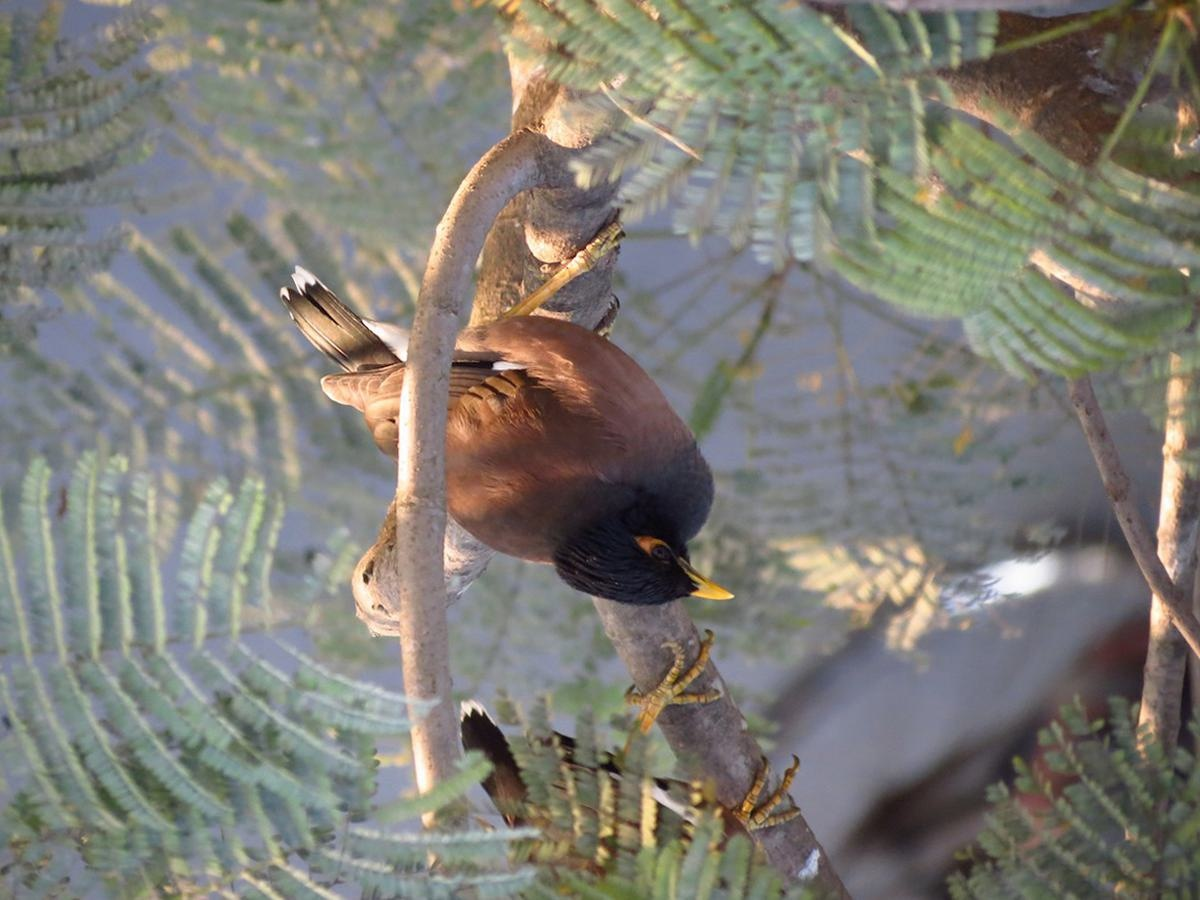myna: (283, 195, 744, 647)
